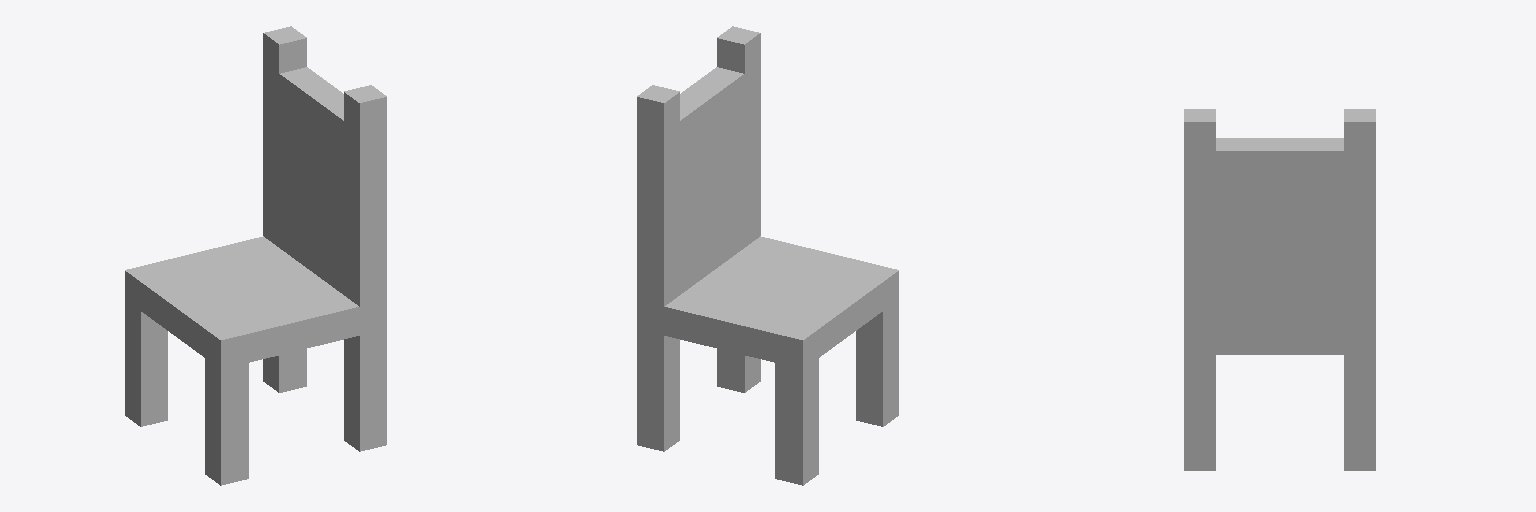
The model's file is escenario (1)-3.obj.
The picture shows the model from 3 angles: view 1: azimuth 30°, elevation 25°; view 2: azimuth 150°, elevation 25°; view 3: azimuth 270°, elevation 25°; orthographic projection.
Parts seen in each view (by area): view 1: object 1; view 2: object 1; view 3: object 1.
Part boxes in pixels (x1,y1,x2,y2): object 1: (125, 26, 386, 485); object 1: (637, 26, 898, 485); object 1: (1184, 109, 1375, 470).
Bounding box in the file's own units: 0.6 × 1.2 × 0.6.